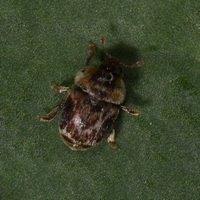insect: (38, 35, 143, 149)
